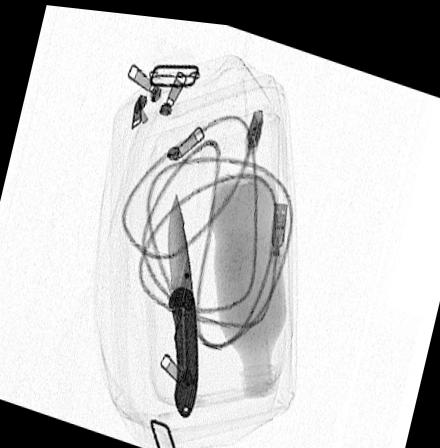Knife: (164, 185, 198, 416)
